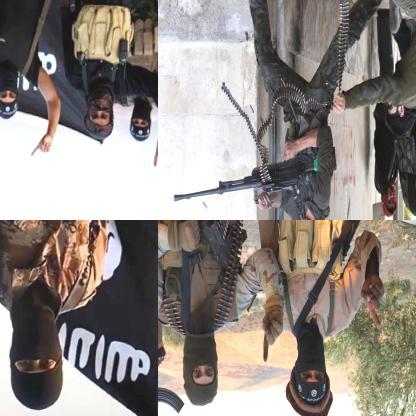rifle: (168, 134, 338, 206), (173, 220, 248, 282), (158, 347, 187, 415), (341, 220, 386, 263)
